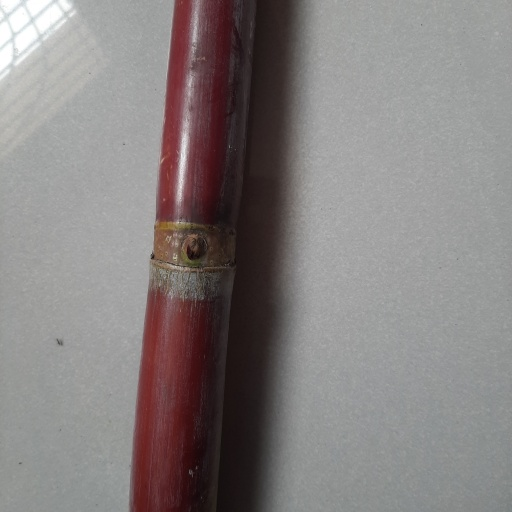Bud: (184, 235, 207, 262)
